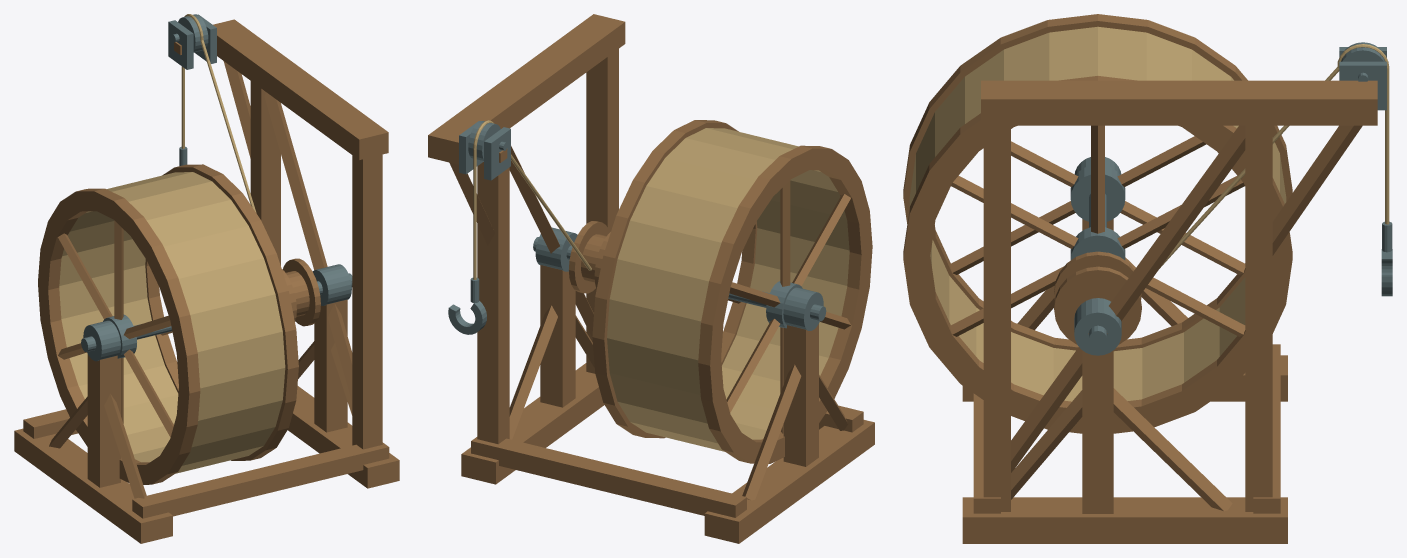
3 views of the same model, side by side, from view 1: azimuth 30°, elevation 25°; view 2: azimuth 150°, elevation 25°; view 3: azimuth 270°, elevation 25° (orthographic). The views are drawn at different scales.
Visible parts, largest first — view 1: WholeContinuousInnerWalkingDrum, WholeWalkingDrumEndRim0, WholeHeadTowerUpright0, WholeHeadTopBeam, WholeRearGroundTie, WholeWalkingDrumEndRim1, WholeLongGroundSill0, WholeHeadTowerUpright1, WholeLowShaftPost0, WholeUpperTowerDiagonal, WholeLowShaftPost1, WholeLongGroundSill1 (+17 smaller); view 2: WholeContinuousInnerWalkingDrum, WholeWalkingDrumEndRim0, WholeHeadTopBeam, WholeHeadTowerUpright1, WholeFrontGroundTie, WholeWalkingDrumEndRim1, WholeLongGroundSill0, WholeHeadTowerUpright0, WholeLongGroundSill1, WholeLowShaftPost0, WholeLowShaftPost1, WholeIntegralRopeWindingDrum (+19 smaller); view 3: WholeContinuousInnerWalkingDrum, WholeHeadTopBeam, WholeWalkingDrumEndRim1, WholeLongGroundSill1, WholeHeadTowerUpright0, WholeHeadTowerUpright1, WholeWalkingDrumEndRim0, WholeUpperTowerDiagonal, WholeLowShaftPost1, WholeIntegralRopeWindingDrum, WholeShaftPostBrace(1, 1), WholeForwardBoomUnderBrace (+20 smaller).
Part boxes in pixels (left/top/right/bottom): WholeContinuousInnerWalkingDrum: left=59, top=172, right=285, bottom=473; WholeWalkingDrumEndRim0: left=38, top=188, right=200, bottom=484; WholeHeadTowerUpright0: left=352, top=154, right=382, bottom=449; WholeHeadTopBeam: left=213, top=19, right=388, bottom=159; WholeRearGroundTie: left=132, top=442, right=389, bottom=518; WholeWalkingDrumEndRim1: left=145, top=164, right=298, bottom=460; WholeLongGroundSill0: left=14, top=428, right=172, bottom=543; WholeHeadTowerUpright1: left=250, top=81, right=280, bottom=265; WholeLowShaftPost0: left=87, top=354, right=120, bottom=487; WholeUpperTowerDiagonal: left=264, top=92, right=352, bottom=402; WholeLowShaftPost1: left=314, top=299, right=347, bottom=432; WholeLongGroundSill1: left=288, top=385, right=399, bottom=488; WholeContinuousInnerWalkingDrum: left=607, top=128, right=849, bottom=451; WholeWalkingDrumEndRim0: left=698, top=145, right=872, bottom=463; WholeHeadTopBeam: left=428, top=14, right=625, bottom=164; WholeHeadTowerUpright1: left=477, top=162, right=509, bottom=444; WholeFrontGroundTie: left=471, top=437, right=746, bottom=517; WholeWalkingDrumEndRim1: left=592, top=120, right=757, bottom=438; WholeLongGroundSill0: left=704, top=420, right=874, bottom=543; WholeHeadTowerUpright0: left=586, top=49, right=618, bottom=373; WholeLongGroundSill1: left=461, top=363, right=604, bottom=484; WholeLowShaftPost0: left=783, top=324, right=818, bottom=466; WholeLowShaftPost1: left=540, top=265, right=575, bottom=407; WholeIntegralRopeWindingDrum: left=569, top=221, right=610, bottom=293; WholeContinuousInnerWalkingDrum: left=909, top=26, right=1286, bottom=401; WholeHeadTopBeam: left=981, top=80, right=1377, bottom=125; WholeWalkingDrumEndRim1: left=903, top=76, right=1292, bottom=433; WholeLongGroundSill1: left=962, top=497, right=1287, bottom=543; WholeHeadTowerUpright0: left=983, top=125, right=1010, bottom=511; WholeHeadTowerUpright1: left=1245, top=125, right=1272, bottom=511; WholeWalkingDrumEndRim0: left=903, top=14, right=1292, bottom=351; WholeUpperTowerDiagonal: left=1011, top=125, right=1245, bottom=472; WholeLowShaftPost1: left=1082, top=333, right=1113, bottom=513; WholeIntegralRopeWindingDrum: left=1054, top=251, right=1141, bottom=344; WholeShaftPostBrace(1, 1): left=1113, top=388, right=1232, bottom=511; WholeForwardBoomUnderBrace: left=1272, top=125, right=1362, bottom=255.
Bounding box in the file's own units: 2.16 × 2.82 × 2.68.
